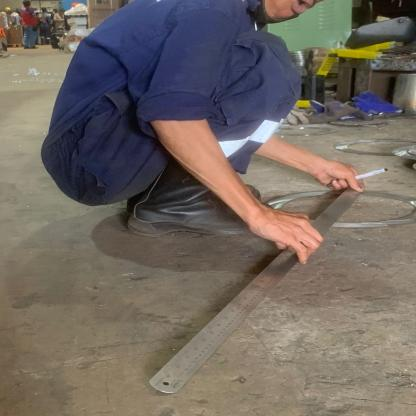bota: (132, 149, 260, 241)
